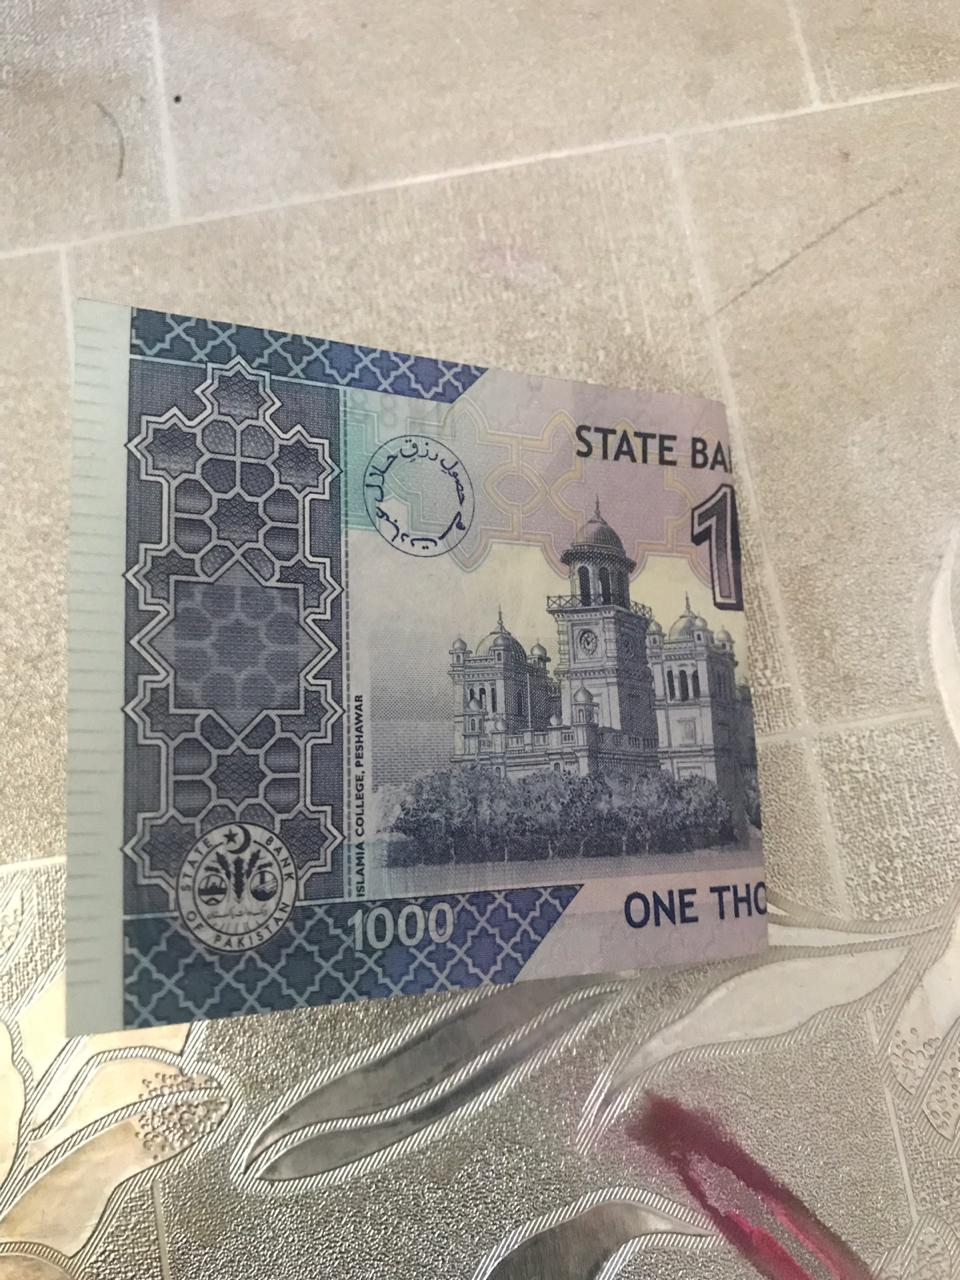1000 rupee: (58, 313, 815, 1024)
